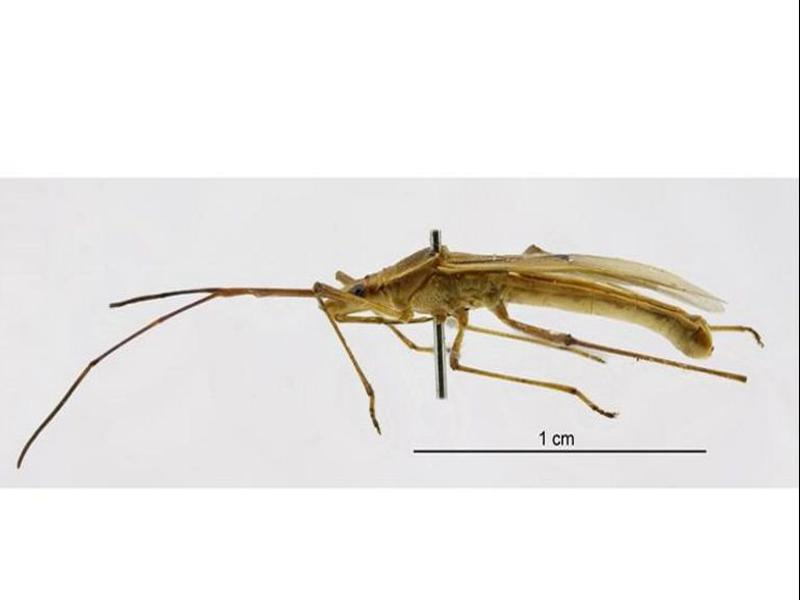Rice_earhead_bug: (220, 208, 736, 411)
